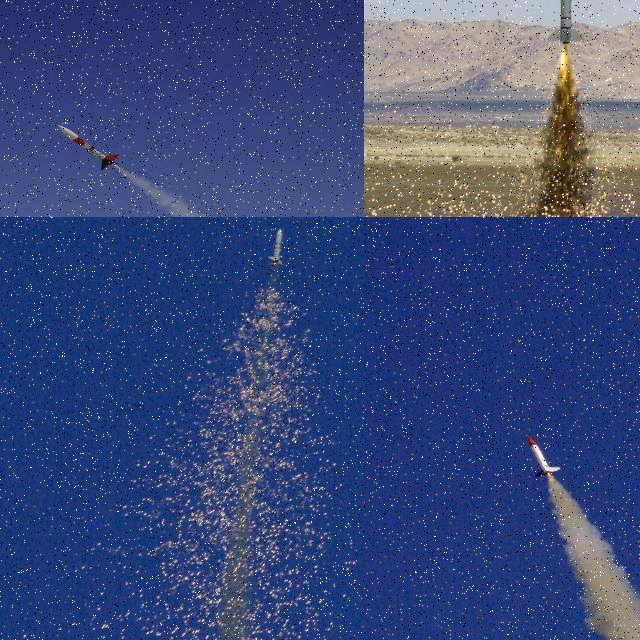Rocket: (56, 124, 122, 171), (545, 0, 585, 44), (528, 436, 561, 477), (268, 228, 284, 266)
